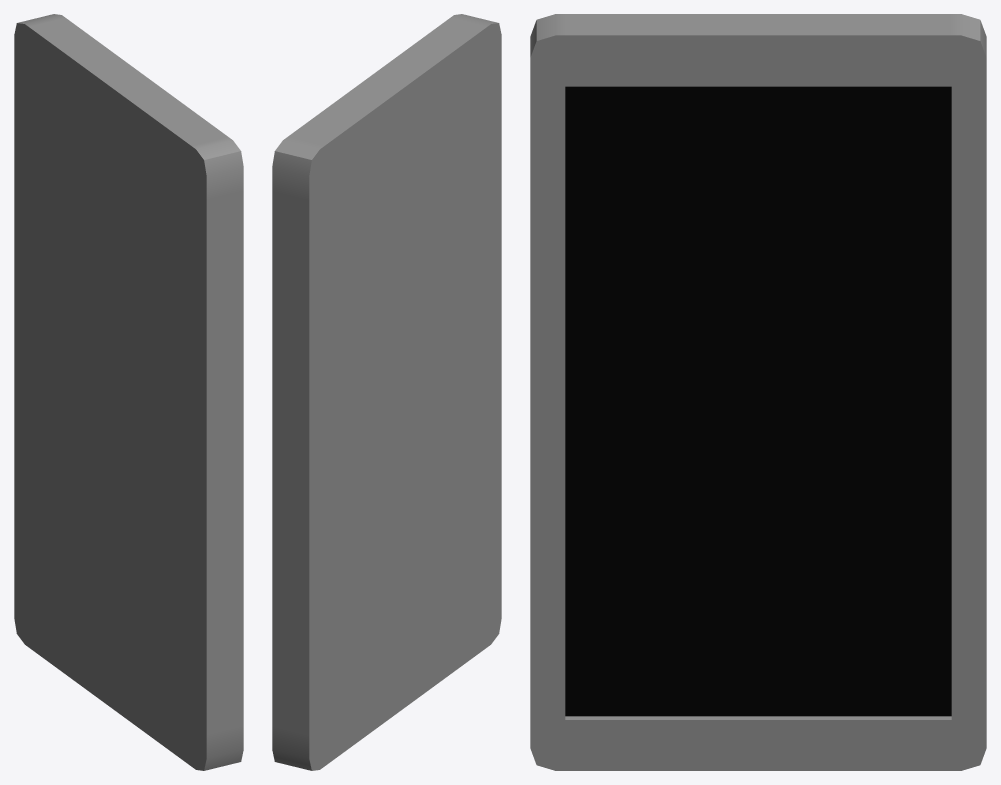
The model's file is Placeholder_Phone.fbx.
3 views of the same model, side by side, from view 1: azimuth 30°, elevation 25°; view 2: azimuth 150°, elevation 25°; view 3: azimuth 270°, elevation 25° (orthographic). The views are drawn at different scales.
Visible parts, largest first — view 1: Placeholder_Phone; view 2: Placeholder_Phone; view 3: Placeholder_Phone.
Part boxes in pixels (x1,y1,x2,y2): Placeholder_Phone: (14, 14, 243, 770); Placeholder_Phone: (272, 14, 501, 770); Placeholder_Phone: (530, 14, 986, 770).
Size of the model in its own units: 1 by 9 by 16.
